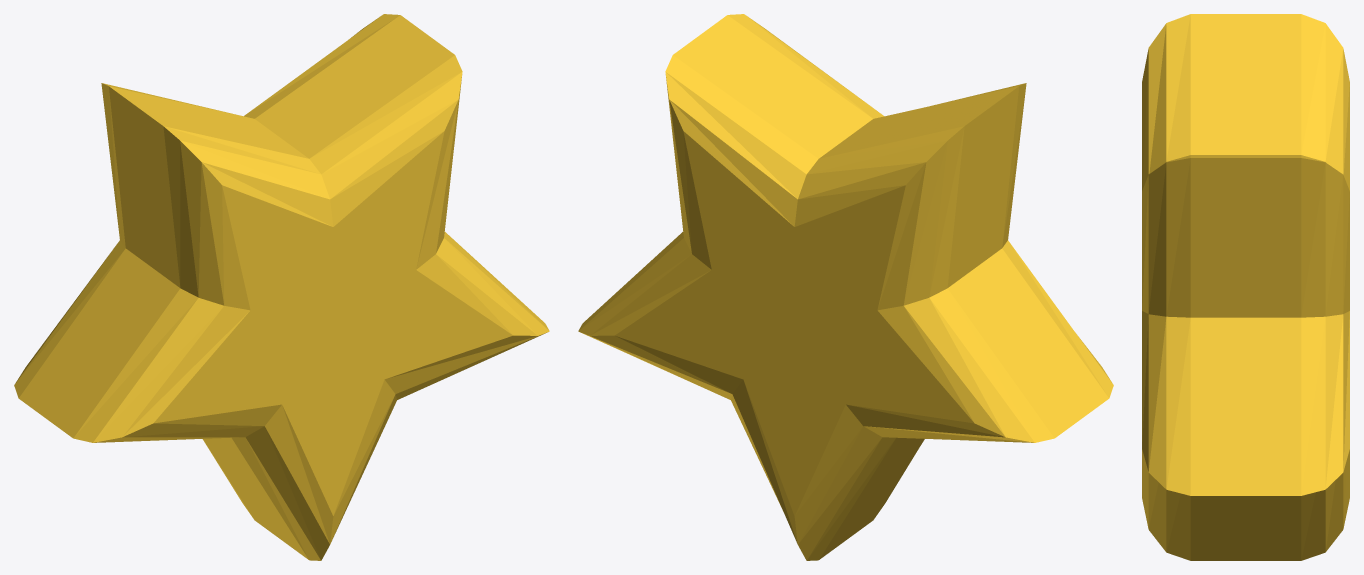
The model's file is prop-04-puffy-star.glb.
The picture shows the model from 3 angles, left to right: view 1: azimuth 30°, elevation 25°; view 2: azimuth 150°, elevation 25°; view 3: azimuth 270°, elevation 25°; orthographic projection.
Parts seen in each view (by area): view 1: puffy-star; view 2: puffy-star; view 3: puffy-star.
Boxes of the visible parts, <box> form: puffy-star: <box>14,14,549,560</box>; puffy-star: <box>578,14,1113,560</box>; puffy-star: <box>1142,14,1349,560</box>.
Size of the model in its own units: 2 by 1.9 by 0.7538.
